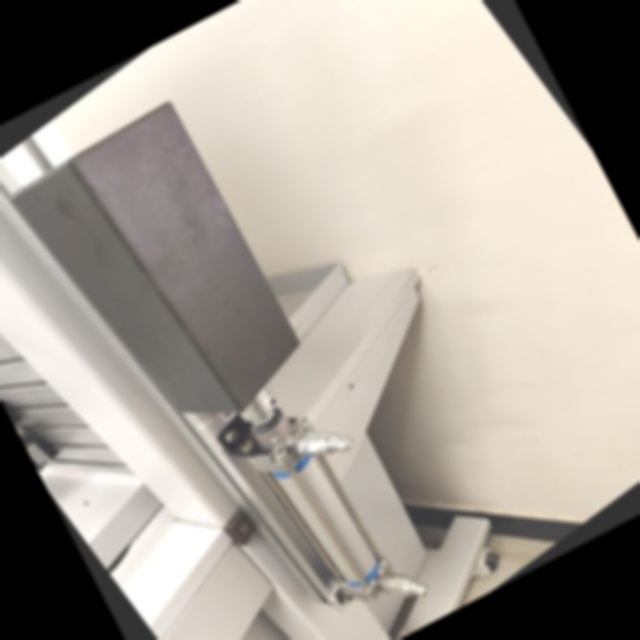load: (0, 14, 538, 640)
